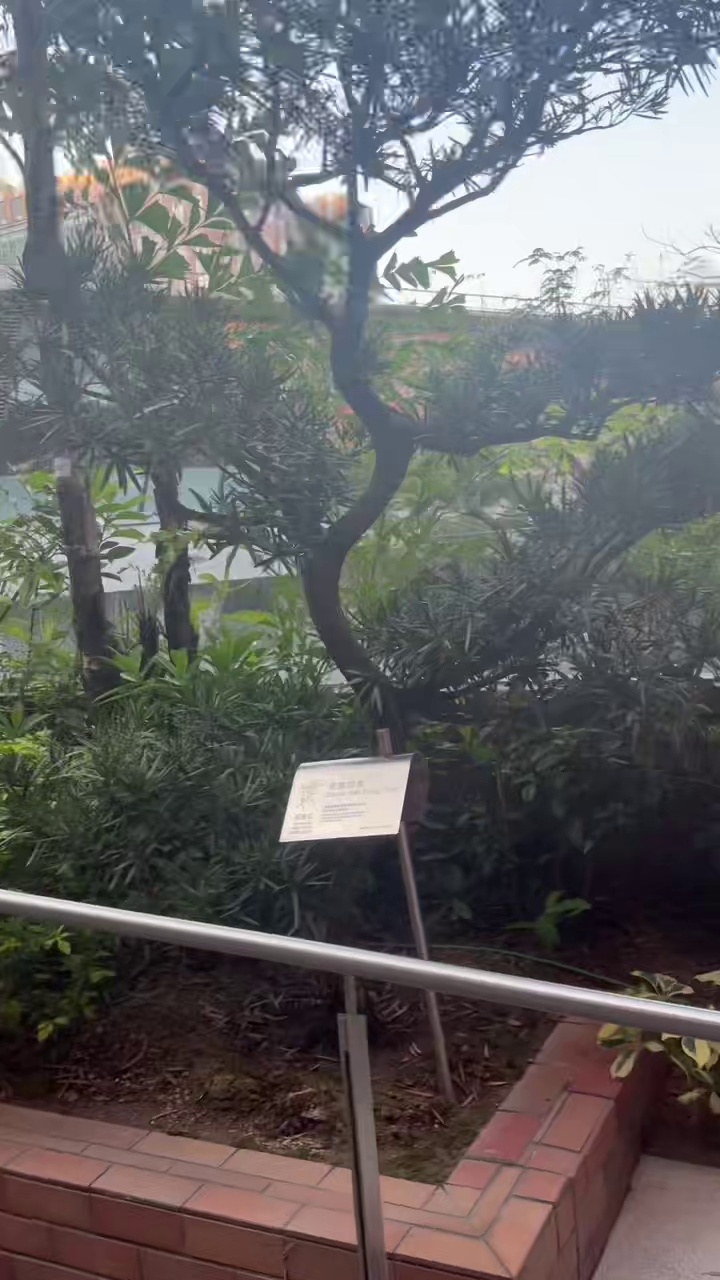Podocarpus macrophyllus: (60, 0, 719, 713)
